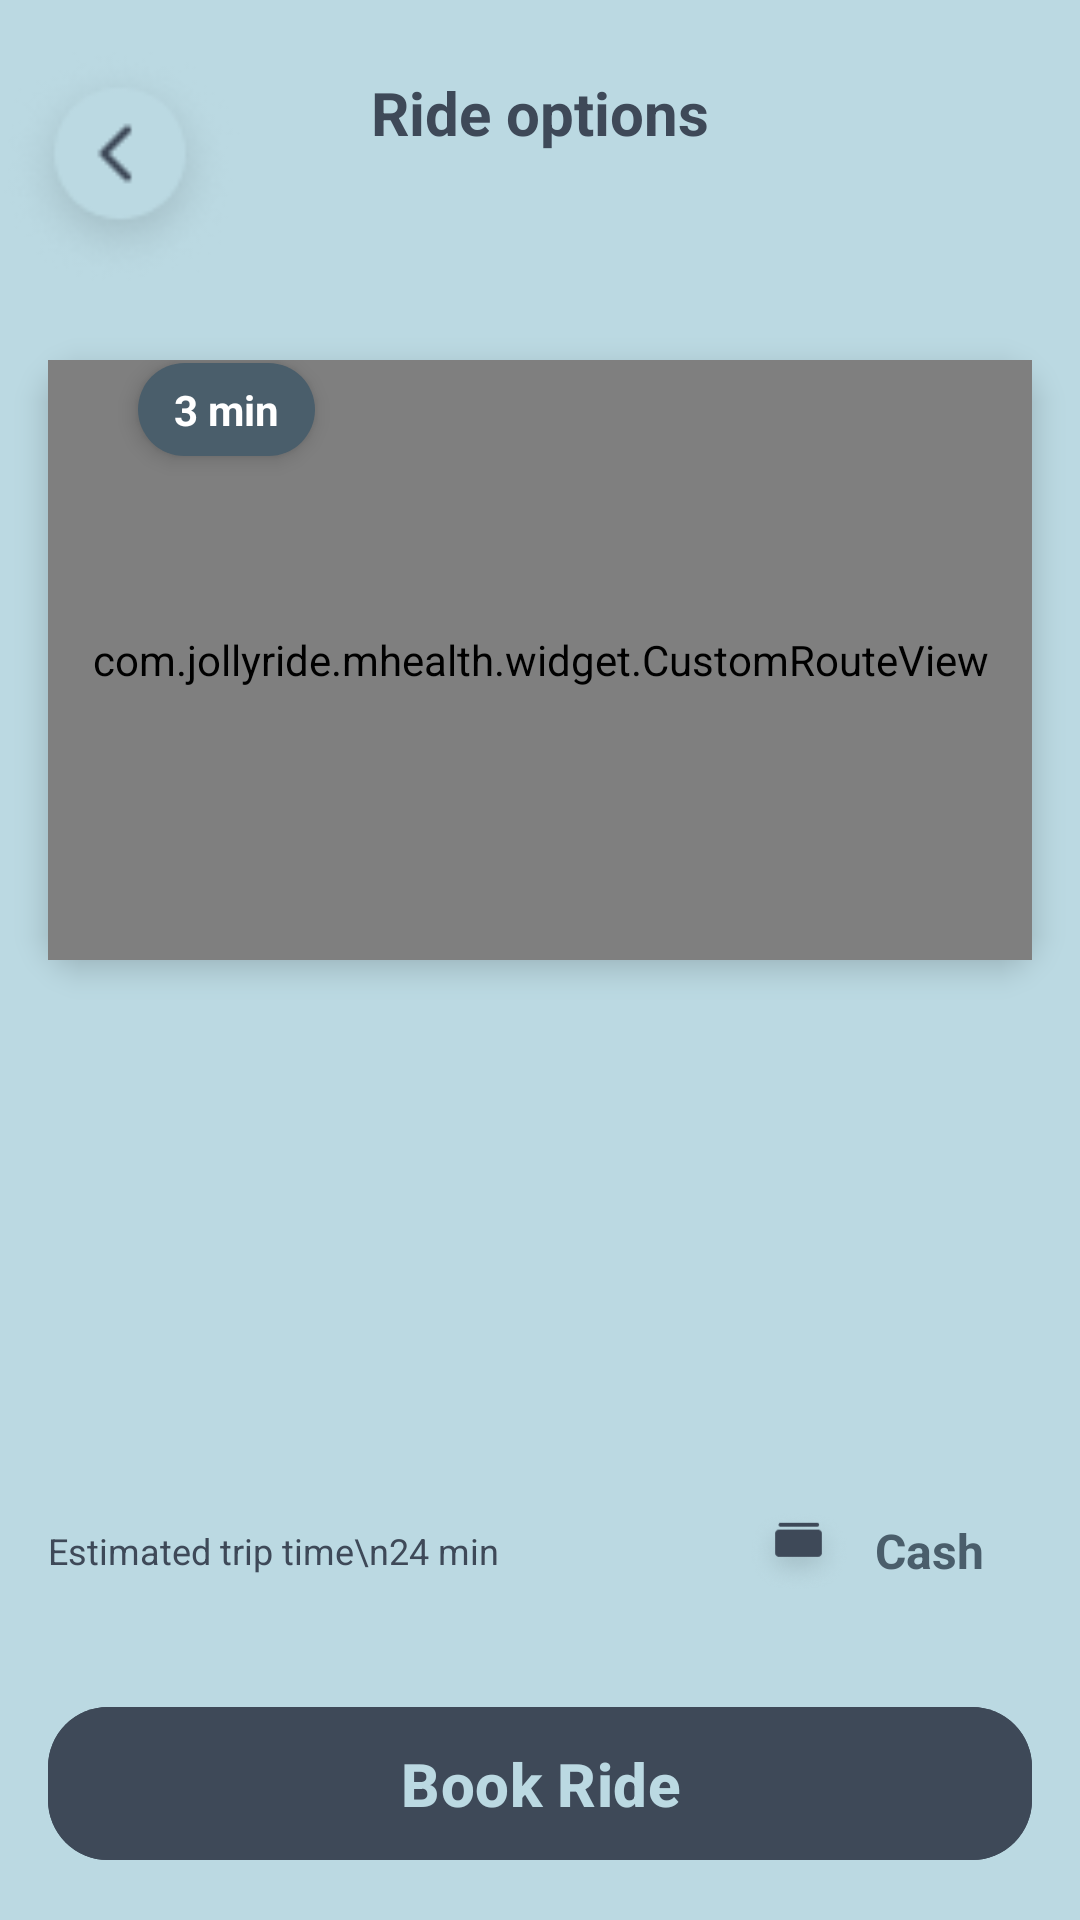

Locate icon controls on the screen. Image size 1080px×1920px, boxes as (x1, y1, x2, y2).
back: (98, 124, 132, 183)
Payment Method Icon: (775, 1522, 822, 1557)
